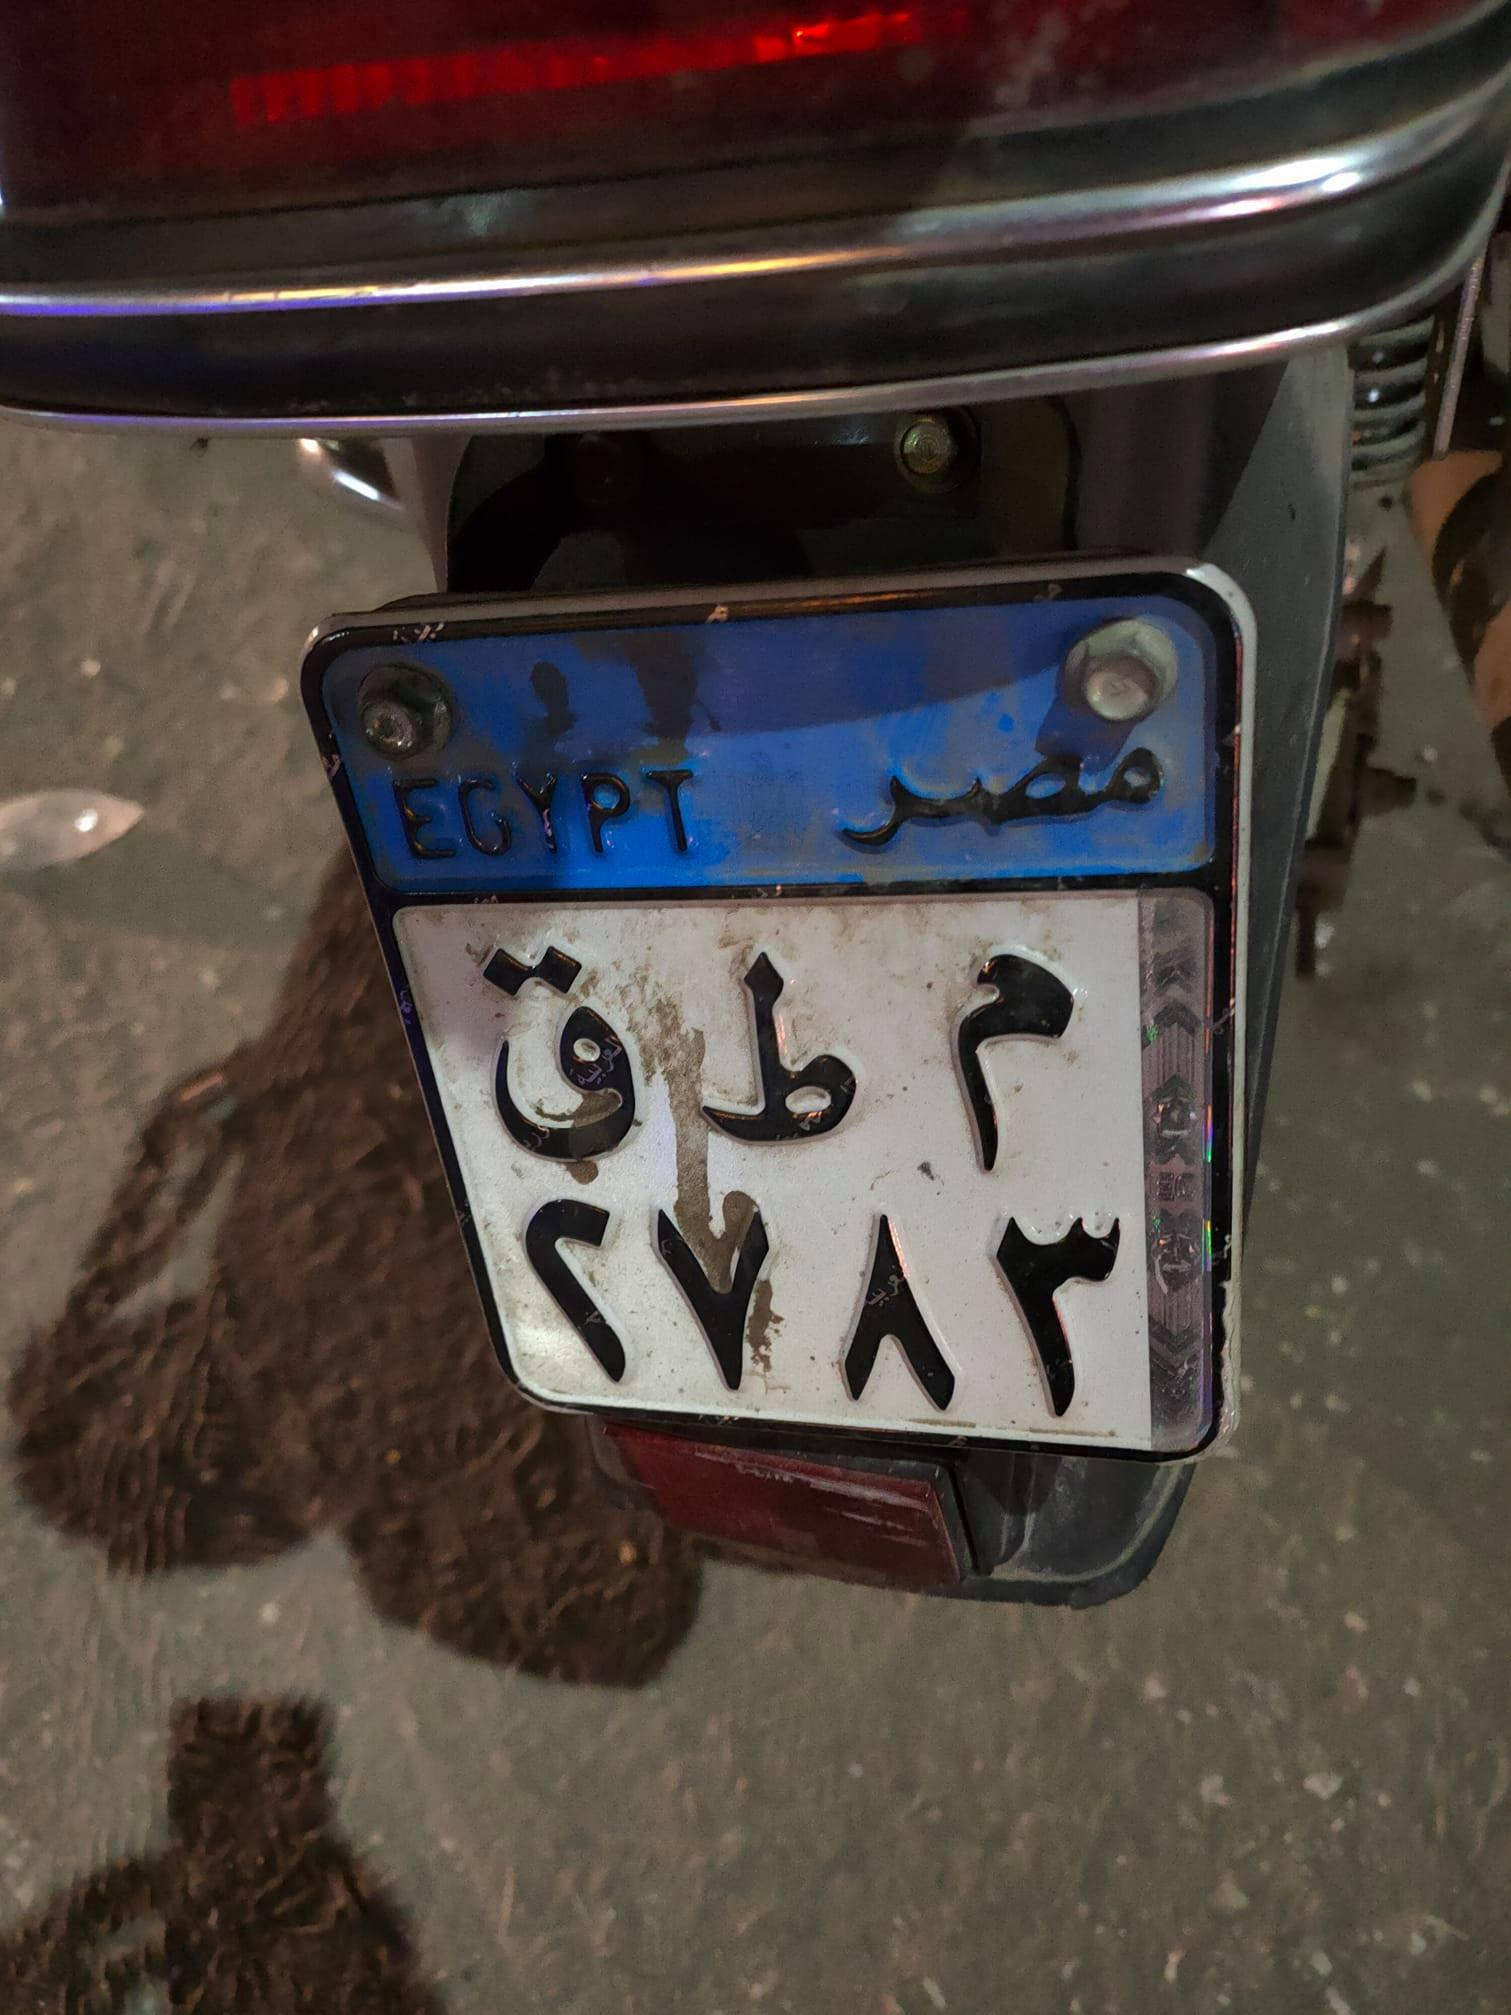License Plate: (327, 621, 1275, 1467)
